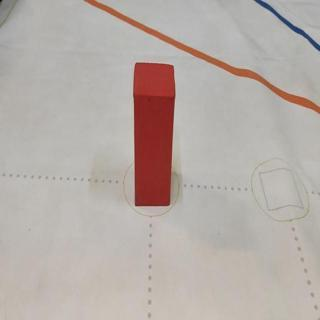redbox: (132, 63, 176, 206)
